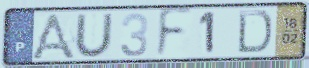1: (197, 10, 215, 56)
3: (119, 11, 150, 58)
A: (27, 11, 79, 61)
D: (235, 8, 274, 55)
F: (154, 7, 195, 62)
U: (73, 12, 115, 59)
